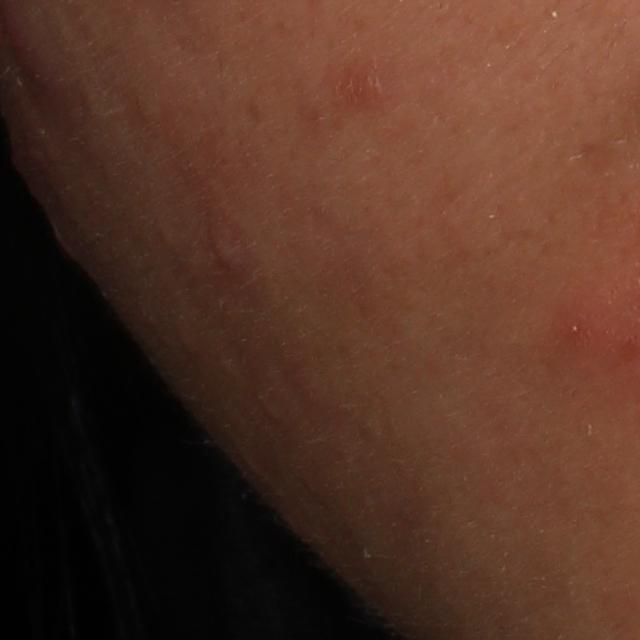papule: (552, 303, 608, 360), (210, 223, 243, 274)
